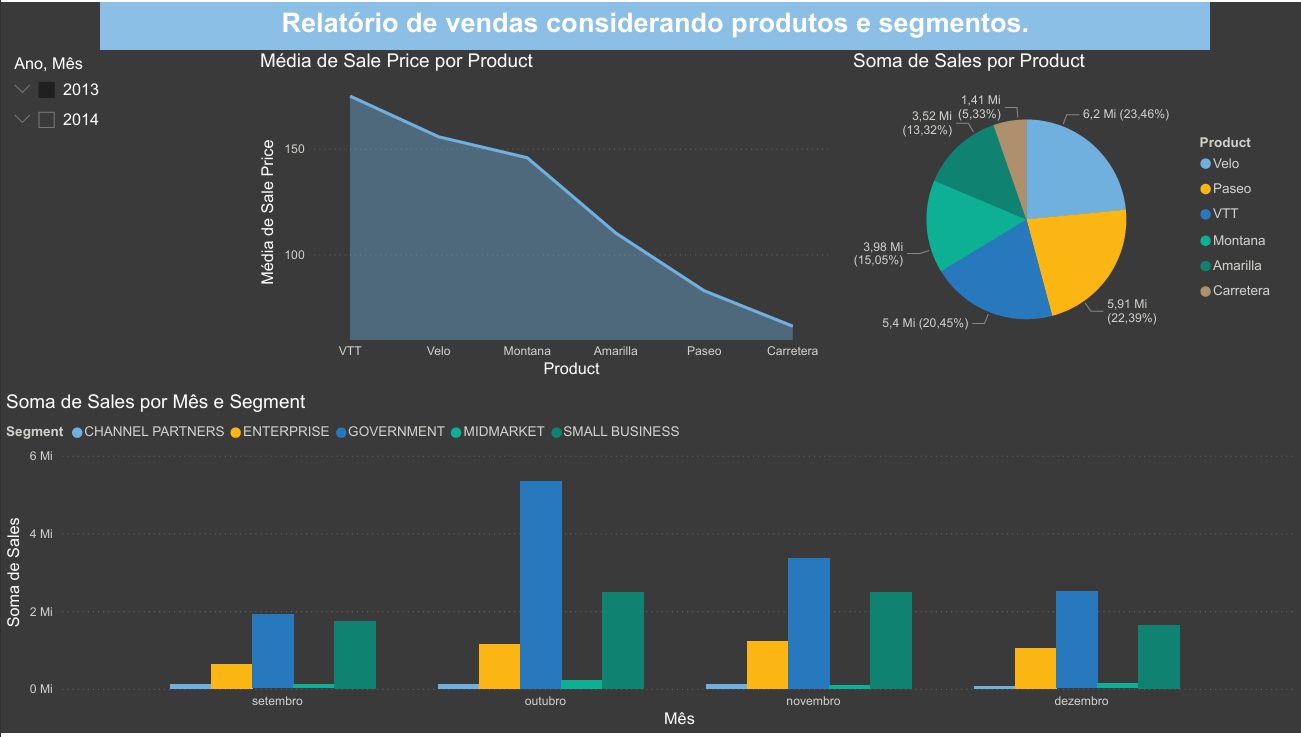

The page's visual inventory and layout, read from the dashboard file:
{"tool":"powerbi","page":{"name":"Página 1","canvas":[1280,720],"ordinal":0},"visuals":[{"type":"pieChart","fields":{"Category":["financials.Product"],"Y":["Sum(financials. Sales)"]},"box":[834,47.4,430.2,313.1],"z":0},{"type":"areaChart","fields":{"Category":["financials.Product"],"Y":["Avg(financials.Sale Price)"]},"box":[249.9,47.4,569.4,327.9],"z":1000},{"type":"clusteredColumnChart","fields":{"Category":["financials.Date.Variation.Hierarquia de datas.Mês"],"Y":["Sum(financials.Sales)"],"Series":["financials.Segment"]},"box":[0,383.5,1280,336.9],"z":2000},{"type":"slicer","fields":{"Values":["financials.Date.Variation.Hierarquia de datas.Ano","financials.Date.Variation.Hierarquia de datas.Mês"]},"box":[0,47.4,249.9,268.9],"z":3000},{"type":"textbox","box":[98.1,0,1092.3,47.4],"z":4000}]}

Visuals, with their boxes in screenshot pixels (x1, y1, x2, y2), scaled from the page's 1280x720 canvas onto the 1301x737 screenshot:
pieChart - financials.Product x Sum(financials. Sales): <bbox>848, 49, 1285, 369</bbox>
areaChart - financials.Product x Avg(financials.Sale Price): <bbox>254, 49, 833, 384</bbox>
clusteredColumnChart - financials.Date.Variation.Hierarquia de datas.Mês x Sum(financials.Sales): <bbox>0, 393, 1300, 736</bbox>
slicer - financials.Date.Variation.Hierarquia de datas.Ano x financials.Date.Variation.Hierarquia de datas.Mês: <bbox>0, 49, 254, 324</bbox>
textbox: <bbox>100, 0, 1210, 49</bbox>
